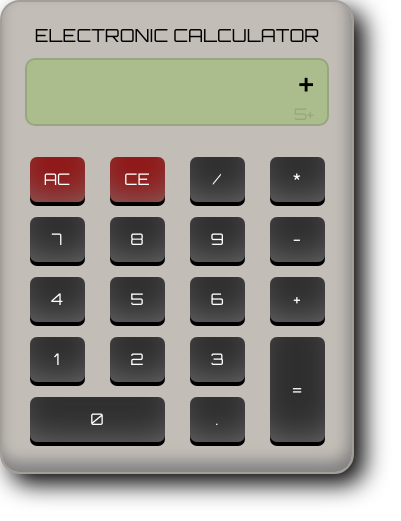
Scenario: method pressPoint › renders 0. at inputValue and expression+0. at expression if mathSigns at inputValue
Expected: the text with class "Calc__input-value" reads "+", [299,60,314,104]
Expected: the text with class "Calc__expression" reads "5+", [294,104,314,124]
What coordinates should you click on to do the following:
click the text with class "Calc__button_FiR"
I would click on:
 (217, 419)
Its box is [190,396,244,442].
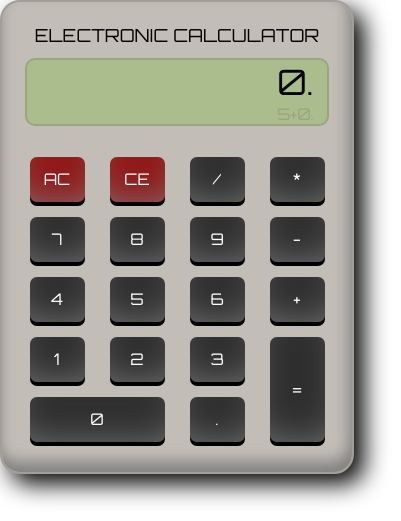
Expected: the text with class "Calc__expression" reads "5+0.", [277,104,314,124]
Now the text with class "Calc__input-value" reads "0.", box [277,60,314,104]
